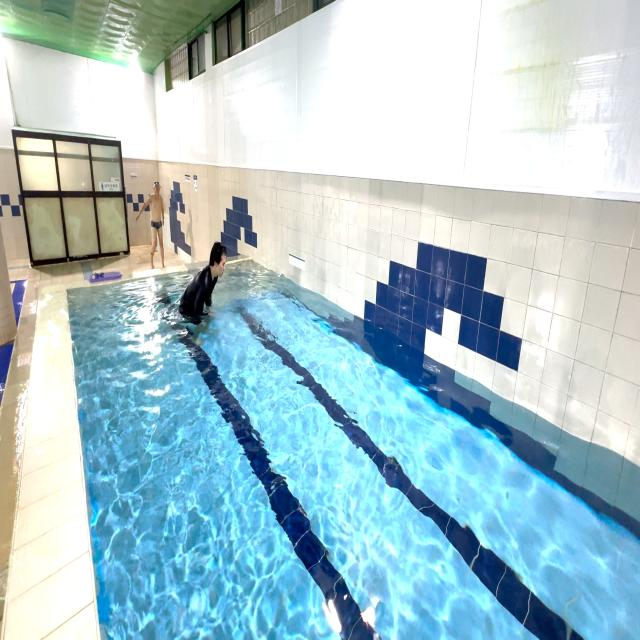Swimming: (168, 231, 247, 341)
